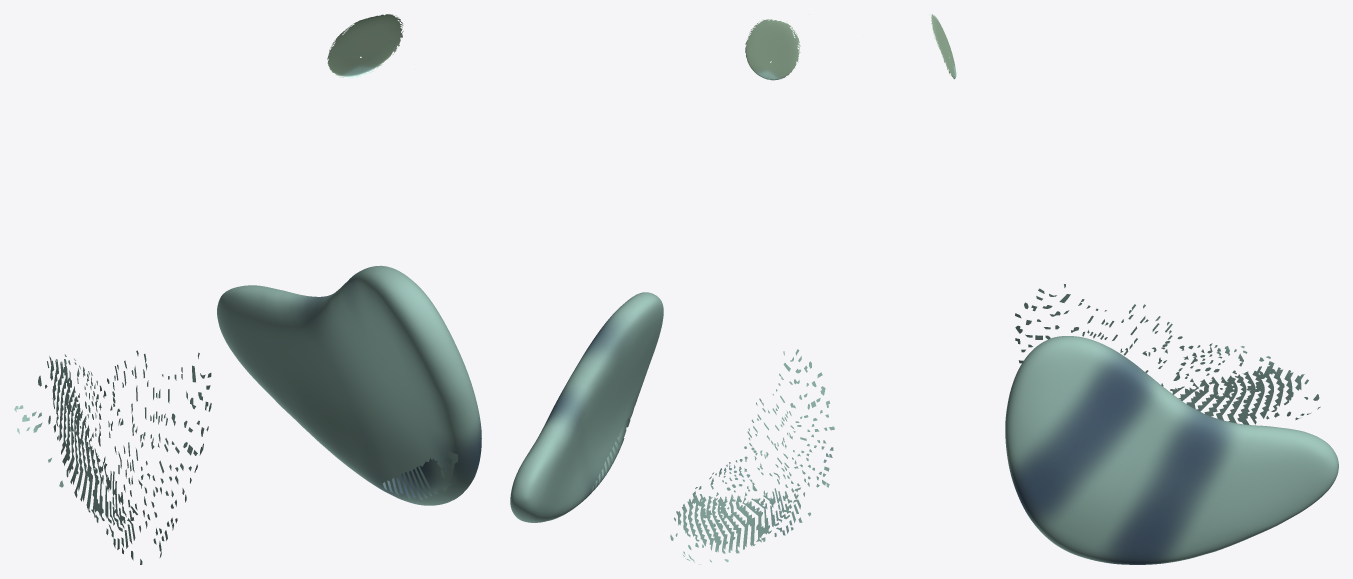
Rendered from paloma_alaizq.glb.
The picture shows the model from 3 angles, left to right: view 1: azimuth 30°, elevation 25°; view 2: azimuth 150°, elevation 25°; view 3: azimuth 270°, elevation 25°; orthographic projection. The views are drawn at different scales.
Visible parts, largest first — view 1: Pigeon_Pigeon3_0.002; view 2: Pigeon_Pigeon3_0.002; view 3: Pigeon_Pigeon3_0.002.
Part boxes in pixels (<box>): Pigeon_Pigeon3_0.002: <box>14,14,481,564</box>; Pigeon_Pigeon3_0.002: <box>510,14,834,564</box>; Pigeon_Pigeon3_0.002: <box>929,14,1338,564</box>.
Size of the model in its own units: 2.19 by 4.02 by 3.57.
